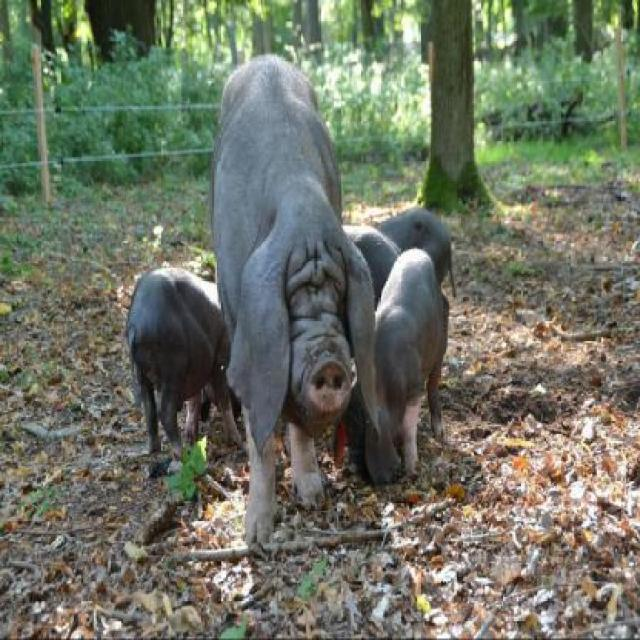Boar: (125, 50, 457, 548)
